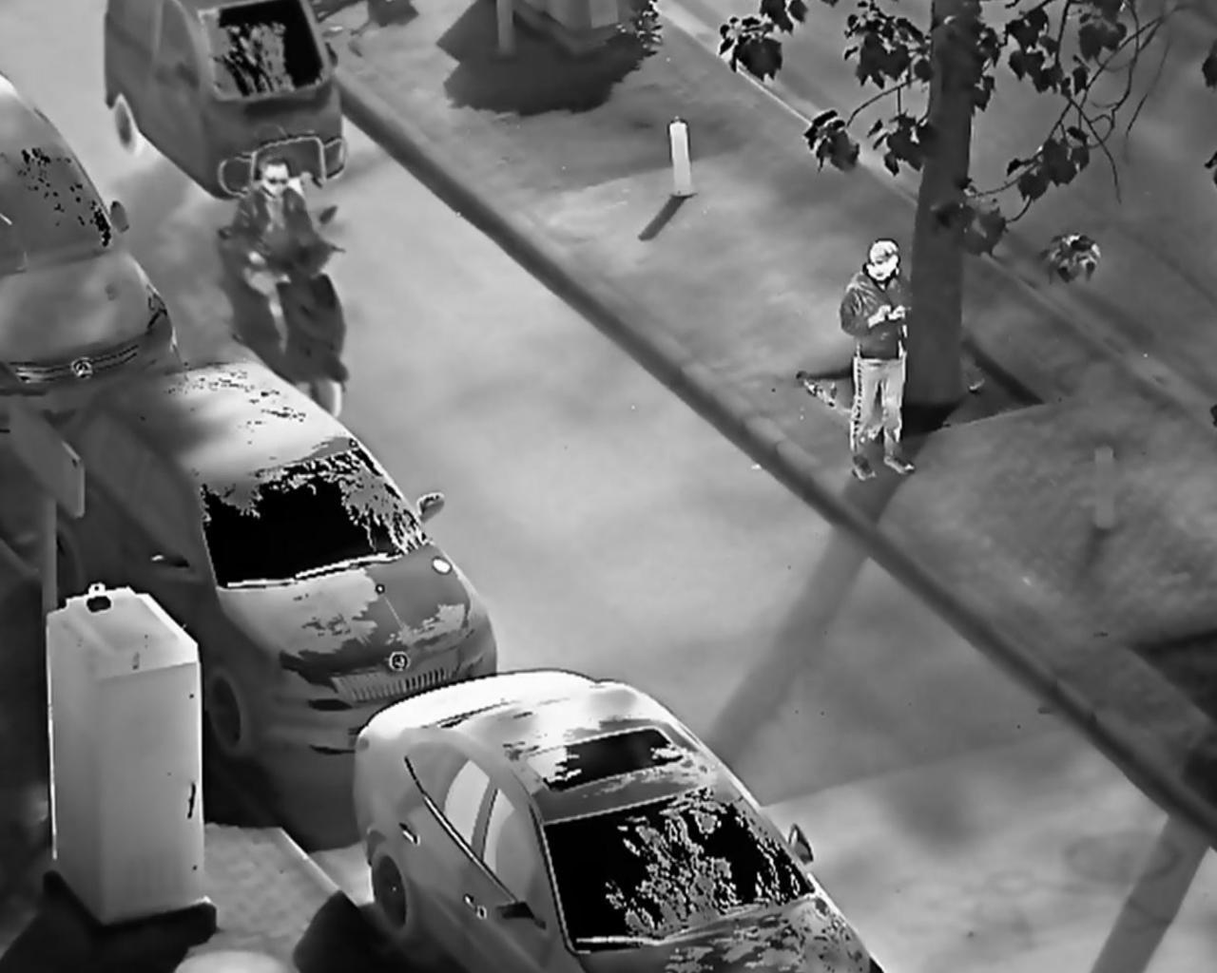person: (233, 153, 338, 360), (841, 238, 918, 486)
